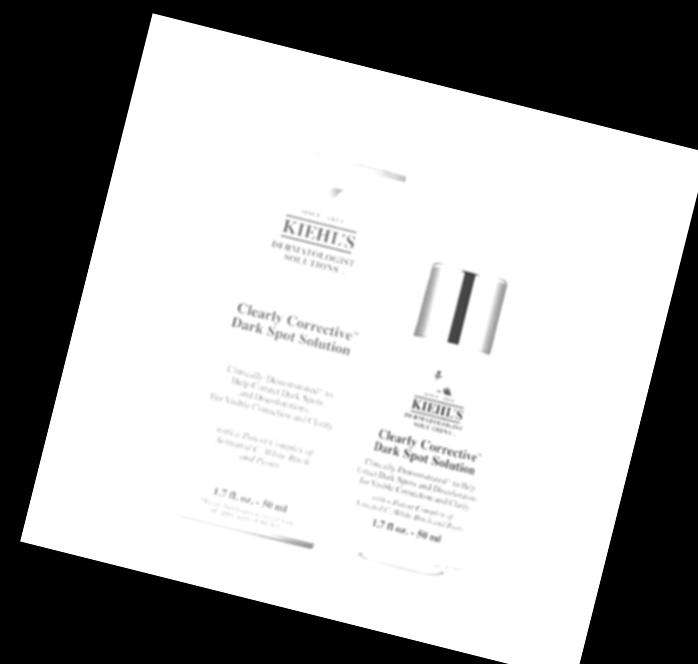cosmetic: (344, 191, 548, 572)
